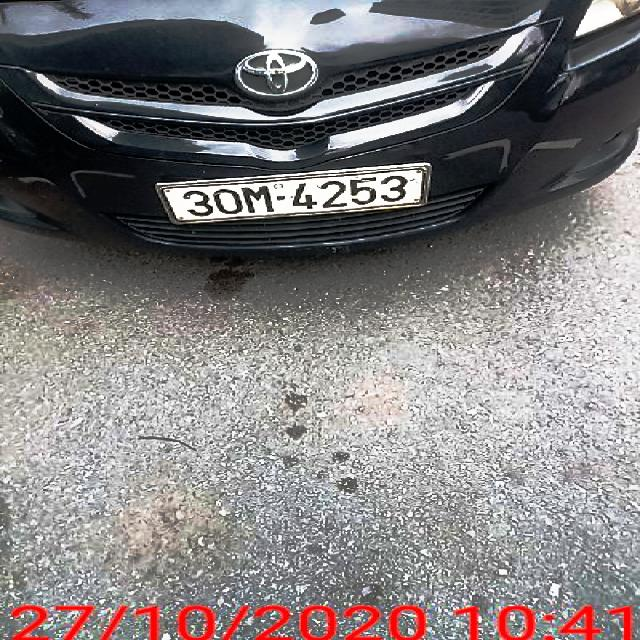license_plate: (161, 167, 430, 221)
